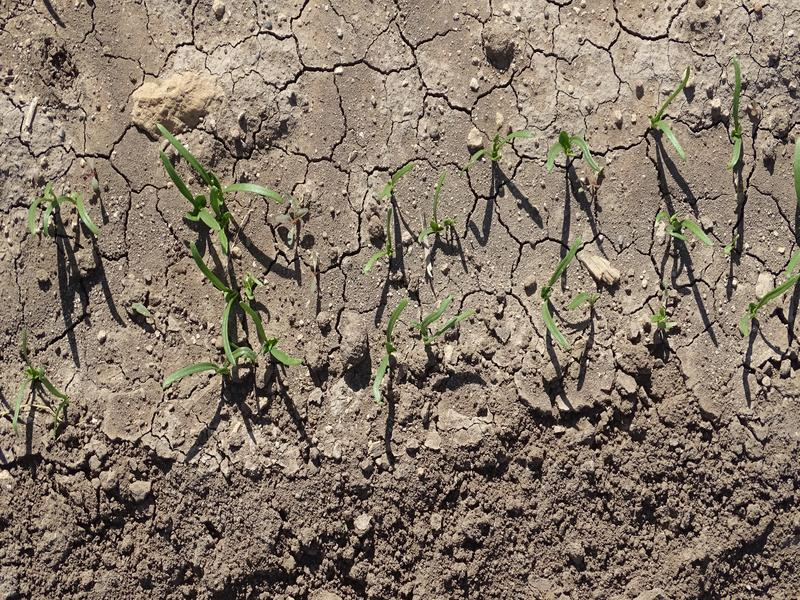Espinaca: (143, 120, 269, 258), (169, 284, 307, 377), (368, 301, 473, 389), (367, 179, 455, 271), (476, 120, 610, 174), (535, 235, 580, 353), (6, 365, 75, 422), (23, 189, 104, 236), (652, 65, 690, 161), (752, 251, 800, 321), (653, 208, 714, 247), (726, 61, 745, 170), (652, 301, 677, 338)
